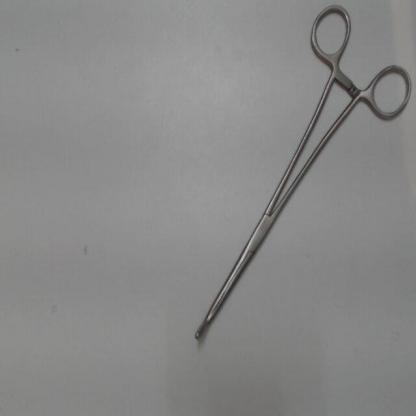Lahey Forceps: (189, 2, 412, 349)
